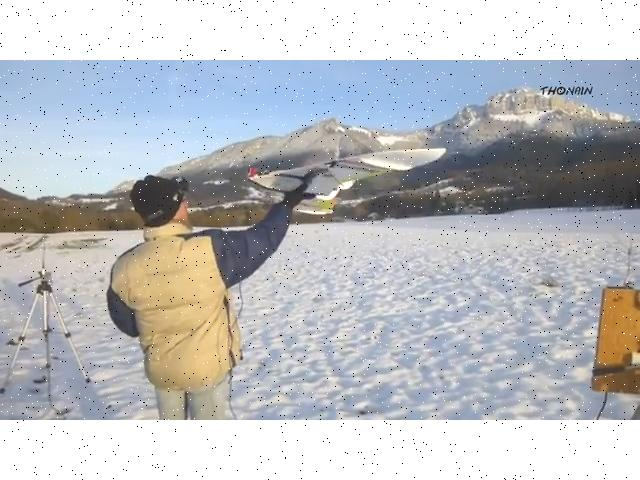Anti-Drone: (238, 120, 452, 232)
